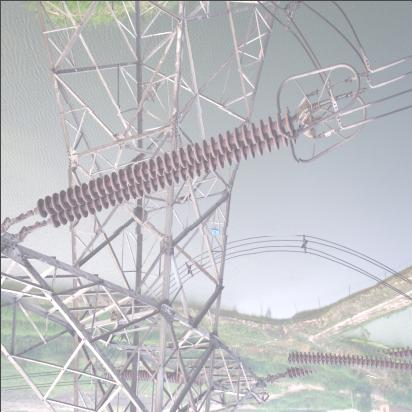insulator: (28, 105, 300, 235), (288, 339, 412, 389)
